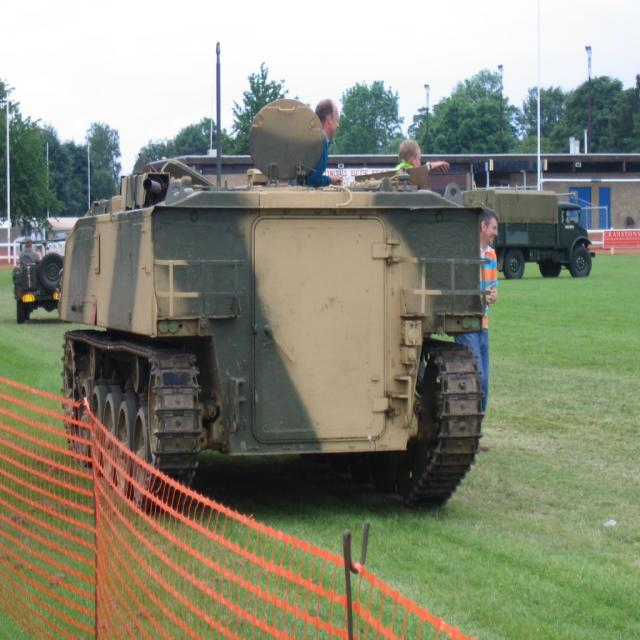tank: (59, 38, 485, 516)
